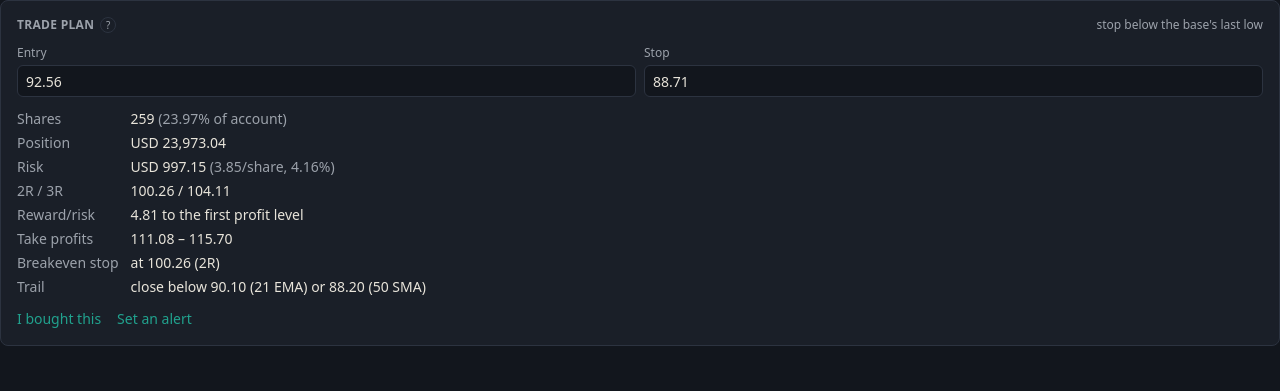
Test: PlanCard › shows the scan's plan and resizes live when the stop is edited
The width and height of the screenshot is (1280, 391).
Check: the text "259 (23.97% of account)" is shown, box [131,109,287,128]
Replace the text in the field labelled "Stop" with "90.56" at [954, 81], box [644,65,1263,97]
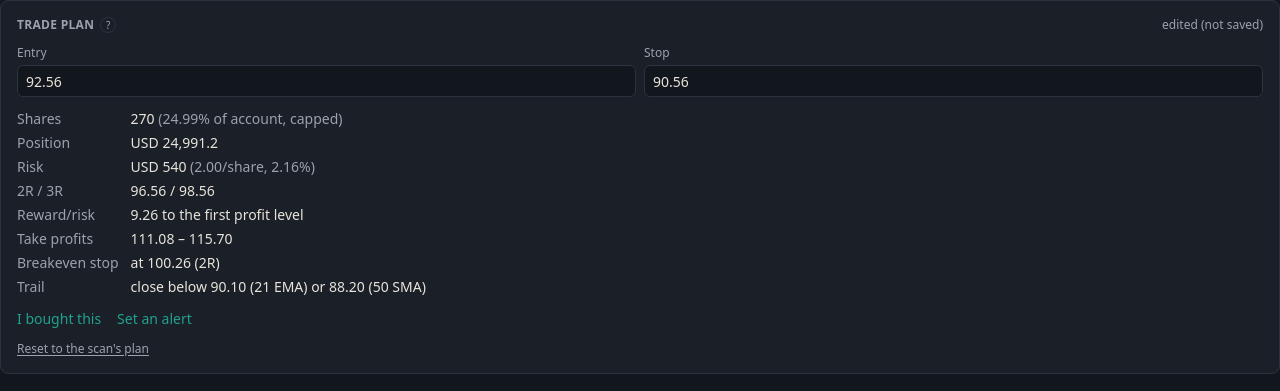
Check: the element "Trade plan" shows "270 (24.99% of account, capped)"
Check: the element "Trade plan" shows "edited (not saved)", box [1162,16,1263,33]
Replace the text in the field labelled "Stop" with "95" at [954, 81], box [644,65,1263,97]
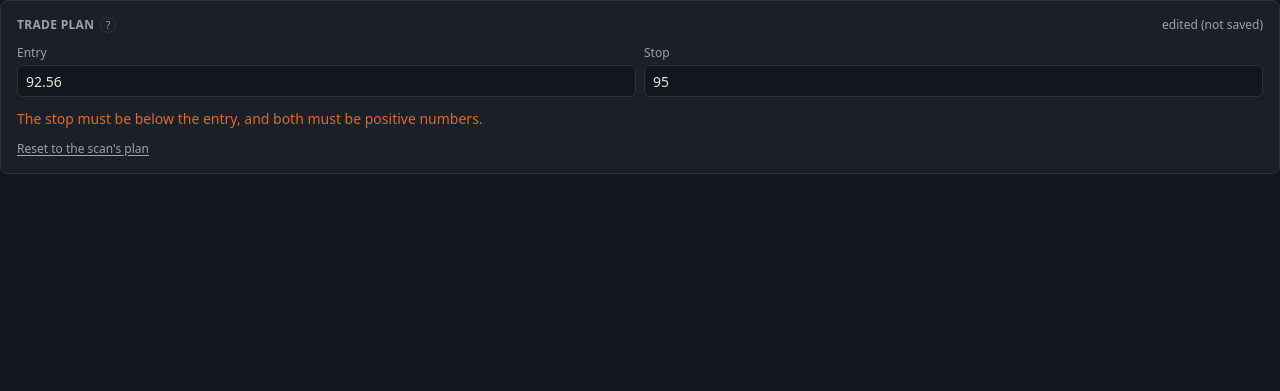
Check: the message reads "The stop must be below the entry, and both must be positive numbers.", box [17,109,483,128]
Click the button "Reset to the scan's plan".
click(83, 149)  # box [17,141,149,157]
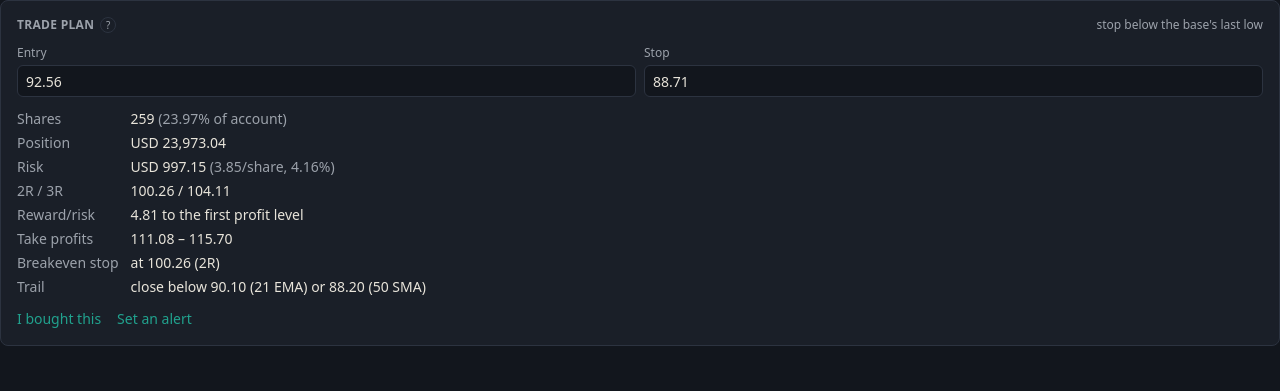
Check: the field labelled "Stop" holds "88.71", box [644,65,1263,97]
